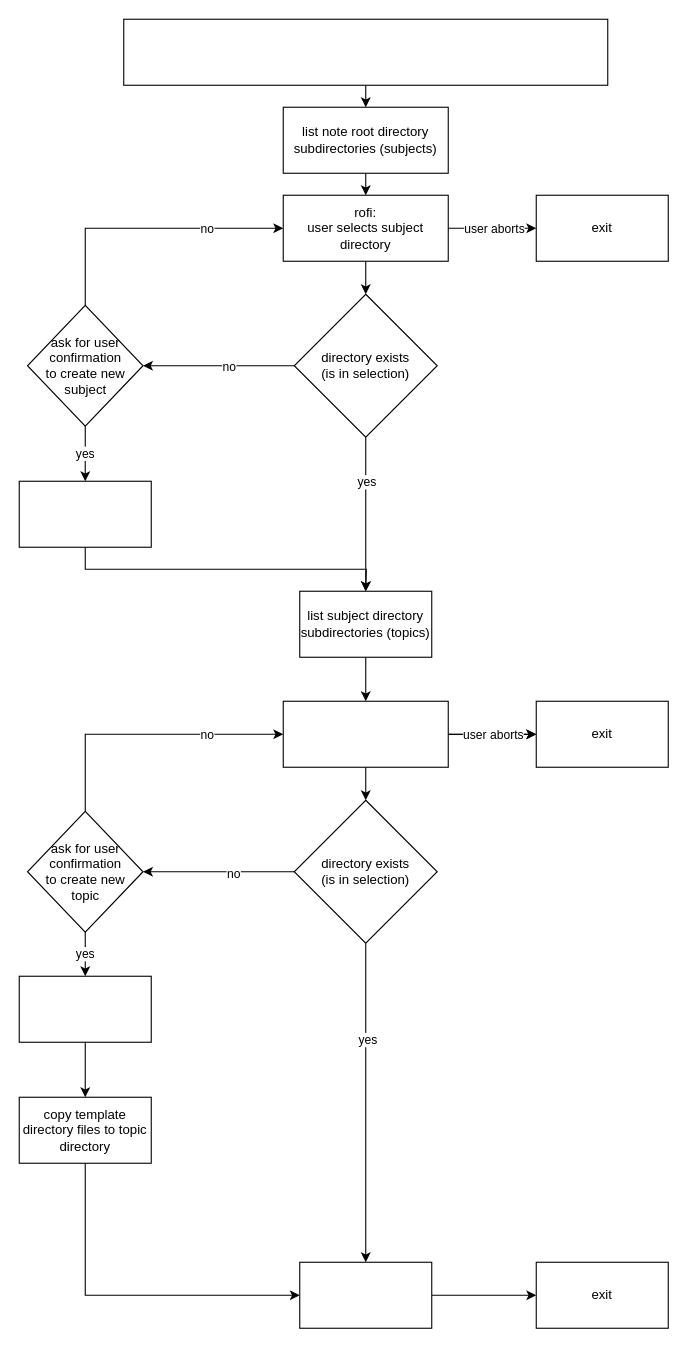
Image size: 688x1348. Some labels were removed from this diagram. The shapes that lost their labels are listed below. From the top down, each one's box as (x1, y1, x2, y2) in pixels, then its label:
(123, 18, 608, 85): call noteman -d path/to/note/root -t path/to/template -b path/to/startup/script
(18, 480, 151, 547): create subject directory
(282, 700, 448, 767): rofi: user selects topic directory
(18, 975, 151, 1042): create topic directory
(299, 1261, 432, 1328): execute startup script
